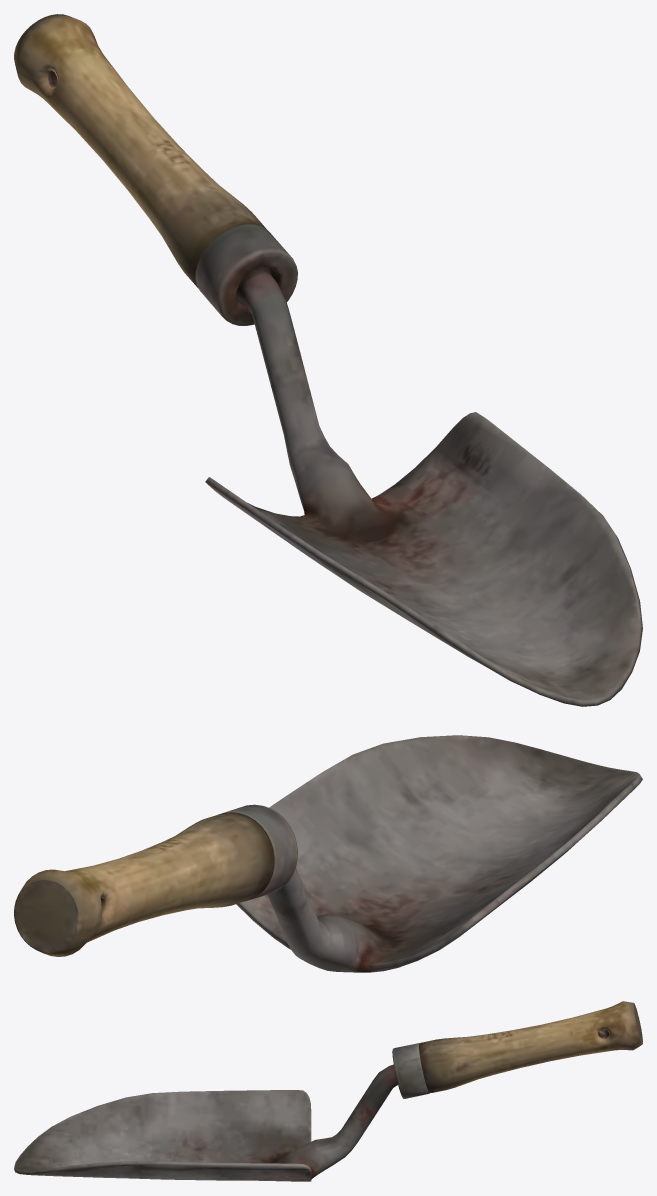
Rendered from trowel_01.glb.
3 views of the same model, one above another, from view 1: azimuth 30°, elevation 25°; view 2: azimuth 150°, elevation 25°; view 3: azimuth 270°, elevation 25° (orthographic). The views are drawn at different scales.
Parts seen in each view (by area): view 1: trowel_01; view 2: trowel_01; view 3: trowel_01.
Boxes of the visible parts, left/top/right/bottom form: trowel_01: left=14, top=14, right=642, bottom=706; trowel_01: left=14, top=735, right=642, bottom=972; trowel_01: left=14, top=1001, right=642, bottom=1181.
Size of the model in its own units: 0.0991 by 0.1026 by 0.3468.
Materials: 1 (1 with a texture image).
